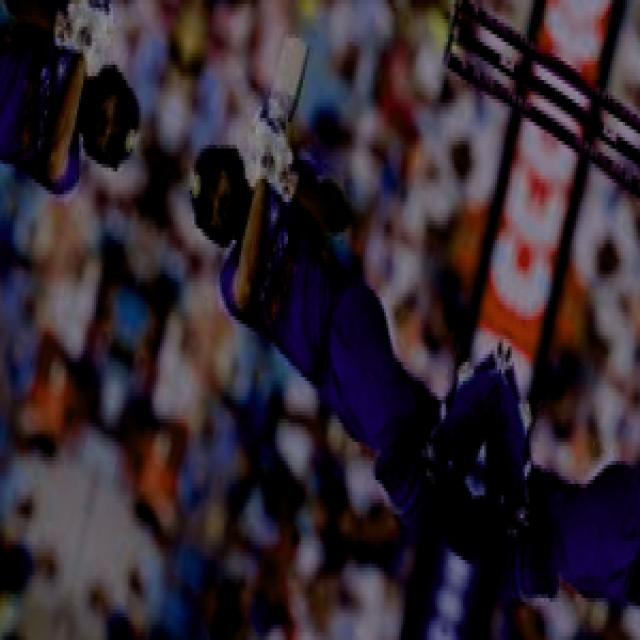toe: (276, 28, 314, 65)
